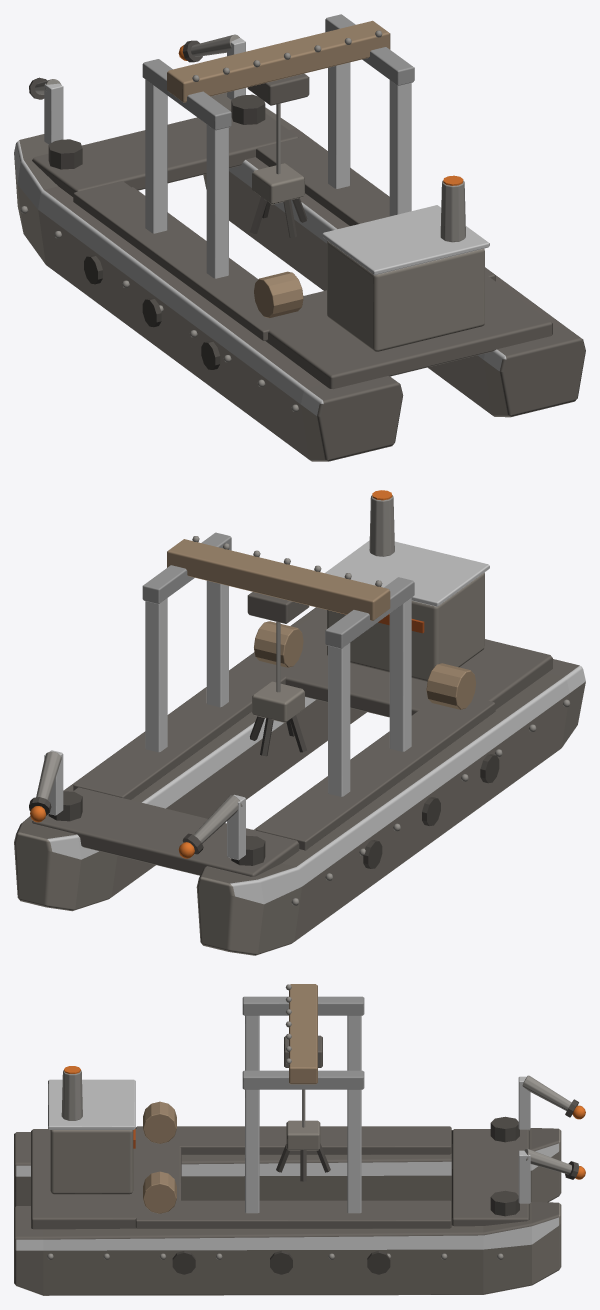
Rendered from crucible_builder_adv_sea.glb.
3 views of the same model, one above another, from view 1: azimuth 30°, elevation 25°; view 2: azimuth 150°, elevation 25°; view 3: azimuth 270°, elevation 25° (orthographic). The views are drawn at different scales.
Visible parts, largest first — view 1: Body; view 2: Body; view 3: Body.
Part boxes in pixels (x1,y1,x2,y2): Body: [14, 14, 585, 461]; Body: [14, 490, 585, 955]; Body: [14, 984, 585, 1295].
Bounding box in the file's own units: 1.12 × 1.02 × 2.35.
